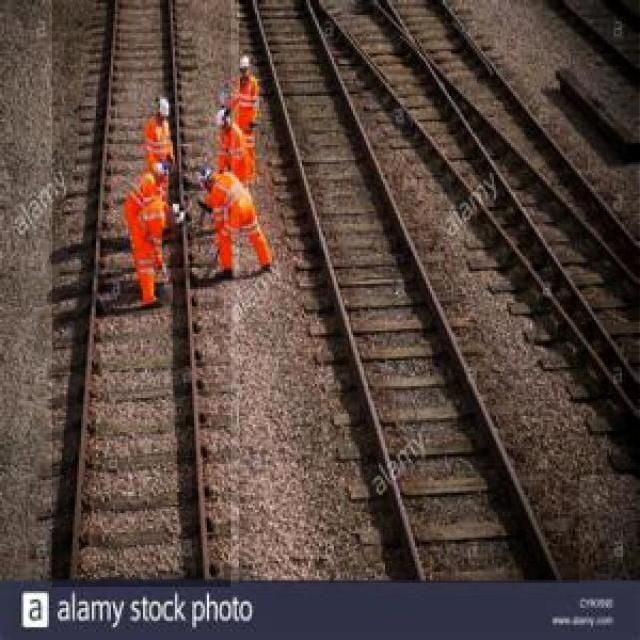rail: (240, 1, 580, 584), (323, 1, 640, 475), (53, 2, 232, 588)
